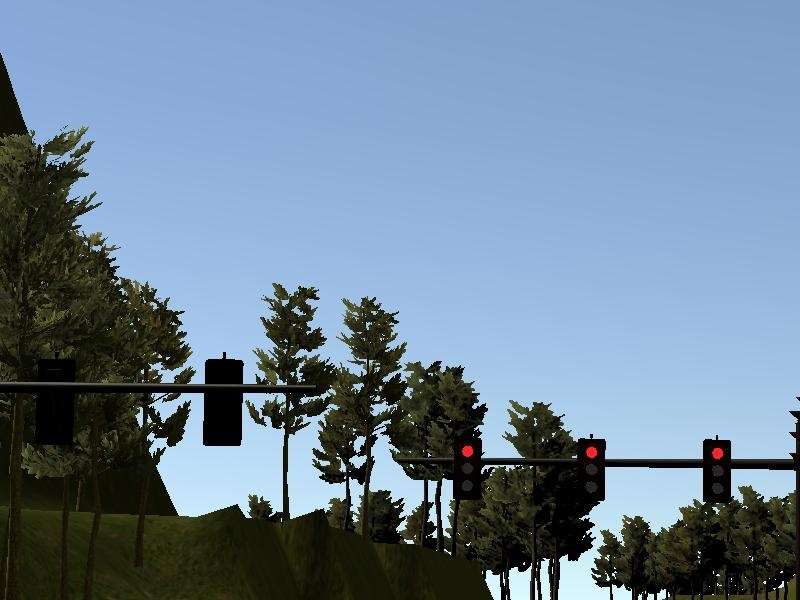RED: (702, 439, 731, 502), (455, 438, 481, 501), (578, 439, 604, 502)
